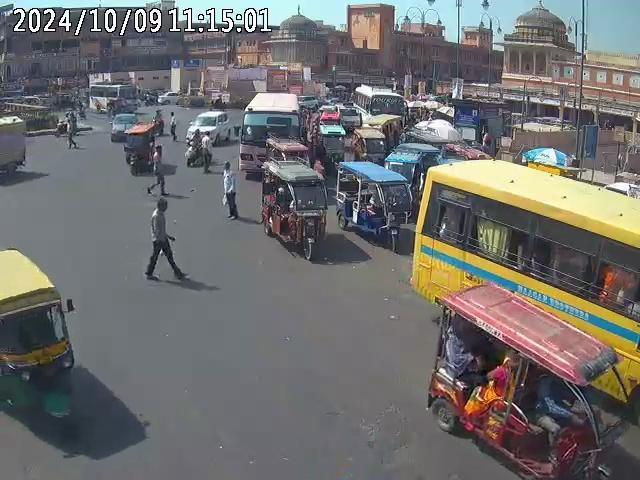auto: (427, 281, 631, 476), (0, 245, 75, 420), (260, 157, 330, 261), (336, 158, 412, 251), (122, 119, 158, 175)
bus: (411, 157, 640, 400), (238, 91, 303, 178), (351, 83, 407, 126)
car: (186, 111, 232, 146), (110, 111, 138, 141)
person: (148, 195, 179, 285), (221, 162, 239, 220), (151, 143, 167, 196), (64, 107, 80, 146), (167, 111, 177, 141)
scooty-rider: (184, 128, 206, 166)
